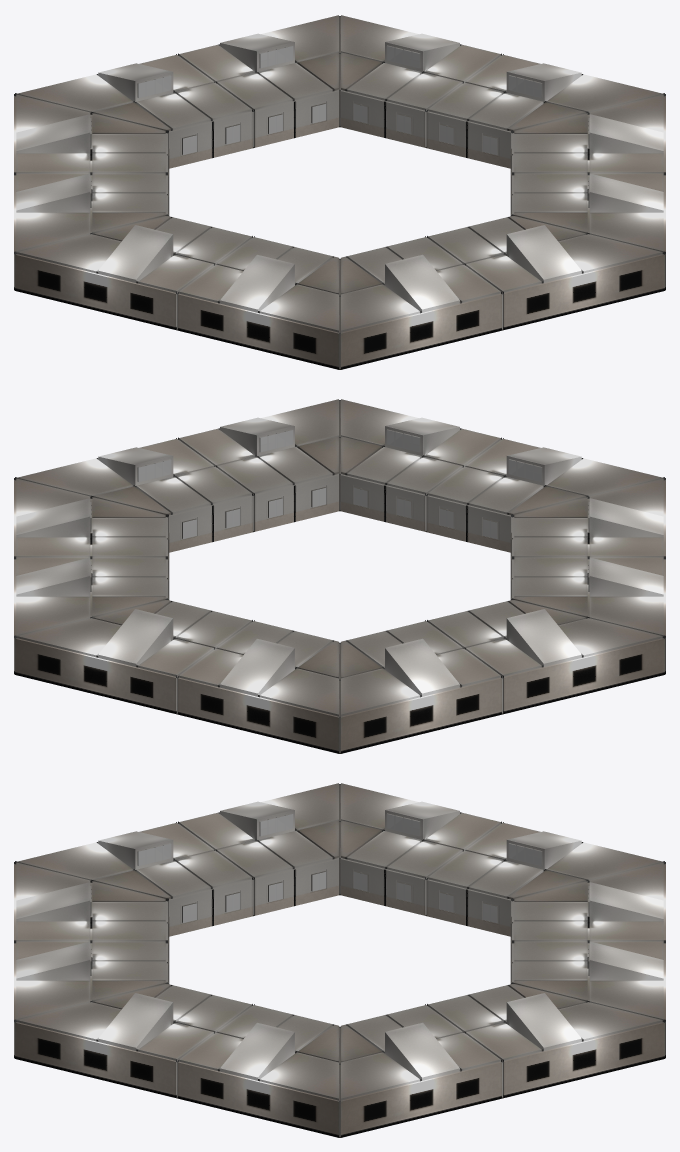
The model's file is vr_gallery_showcase_presentation_building.glb.
3 views of the same model, one above another, from view 1: azimuth 30°, elevation 25°; view 2: azimuth 150°, elevation 25°; view 3: azimuth 270°, elevation 25° (orthographic).
Visible parts, largest first — view 1: Material2 (×2); view 2: Material2 (×2); view 3: Material2 (×2).
Boxes of the visible parts, x1,y1,x2,y2 form: Material2 (×2): [14, 15, 665, 369]; Material2 (×2): [14, 399, 665, 753]; Material2 (×2): [14, 783, 665, 1137].
Size of the model in its own units: 1662 by 142 by 1442.
4 materials, 3 textured.
